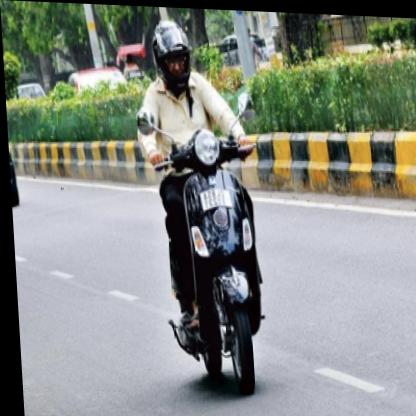With Helmet: (149, 14, 195, 91)
